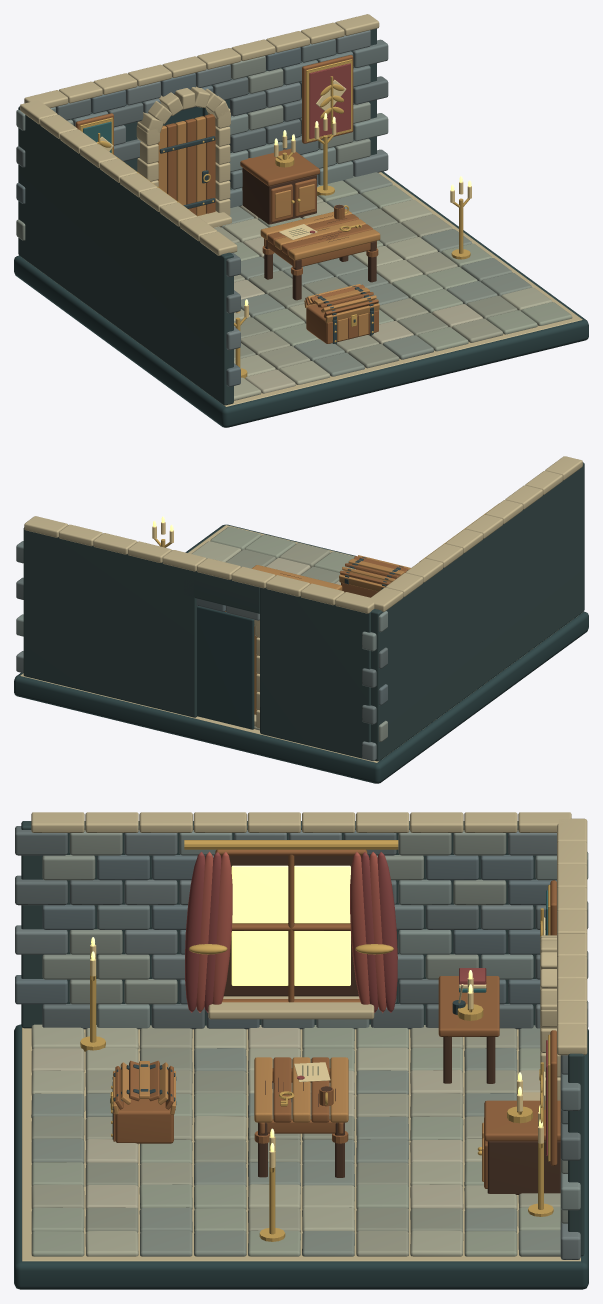
The model's file is custodian-room.glb.
3 renders of one model, top to bottom at view 1: azimuth 30°, elevation 25°; view 2: azimuth 150°, elevation 25°; view 3: azimuth 270°, elevation 25°, orthographic. The views are drawn at different scales.
Visible parts, largest first — view 1: Room_Deep mortar, Room_Carved sandstone, Room_Foundation, Room_Paving_03, Room_Paving_05, Room_Honey oak, Room_Paving_02, Room_Limestone_05, Room_Paving_00, Room_Paving_01, Room_Limestone_01, Room_Oak end grain (+15 smaller); view 2: Room_Deep mortar, Room_Foundation, Room_Carved sandstone, Room_Paving_05, Room_Paving_00, Room_Limestone_05, Room_Paving_01, Room_Limestone_01, Room_Paving_02, Room_Limestone_02, Room_Oak end grain, Room_Paving_04; view 3: Room_Carved sandstone, Room_Paving_03, Room_Paving_05, Room_Foundation, Room_Paving_02, Room_Honey oak, Room_Limestone_04, Room_Paving_01, Room_Limestone_00, Room_Candle glow, Room_Limestone_05, Room_Paving_00 (+12 smaller).
Part boxes in pixels (x1,y1,x2,y2): Room_Deep mortar: (18, 28, 376, 405); Room_Carved sandstone: (20, 14, 582, 406); Room_Foundation: (14, 107, 588, 427); Room_Paving_03: (220, 172, 531, 376); Room_Paving_05: (233, 180, 572, 351); Room_Honey oak: (75, 55, 378, 343); Room_Paving_02: (223, 199, 552, 400); Room_Limestone_05: (16, 76, 388, 313); Room_Paving_00: (234, 208, 517, 368); Room_Paving_01: (214, 196, 503, 370); Room_Limestone_01: (114, 30, 388, 350); Room_Oak end grain: (260, 184, 380, 341); Room_Deep mortar: (23, 462, 584, 761); Room_Foundation: (14, 524, 588, 783); Room_Carved sandstone: (20, 456, 582, 762); Room_Paving_05: (210, 526, 354, 572); Room_Paving_00: (226, 549, 340, 583); Room_Limestone_05: (16, 577, 387, 724); Room_Paving_01: (279, 543, 330, 566); Room_Limestone_01: (16, 605, 376, 761); Room_Paving_02: (191, 541, 259, 730); Room_Limestone_02: (16, 611, 387, 651); Room_Oak end grain: (252, 565, 342, 590); Room_Paving_04: (265, 557, 340, 584); Room_Carved sandstone: (22, 812, 587, 1261); Room_Paving_03: (31, 1025, 560, 1256); Room_Paving_05: (31, 1024, 560, 1256); Room_Foundation: (14, 1024, 588, 1289); Room_Paving_02: (31, 1024, 517, 1256); Room_Honey oak: (113, 849, 560, 1188); Room_Limestone_04: (42, 830, 567, 1223); Room_Paving_01: (31, 1025, 560, 1256); Room_Limestone_00: (15, 855, 556, 1029); Room_Candle glow: (91, 865, 542, 1151); Room_Limestone_05: (15, 826, 588, 1160); Room_Paving_00: (31, 1048, 462, 1232).
Size of the model in its own units: 8.5 by 3.89 by 8.5.
